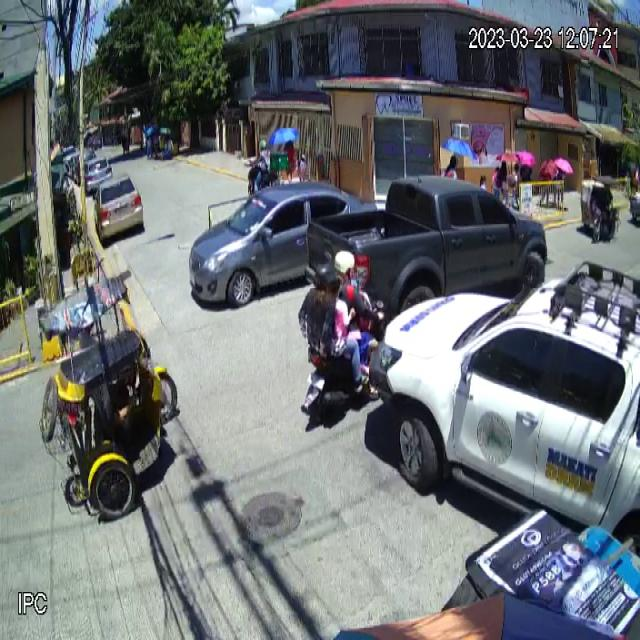Car: (368, 257, 640, 534), (302, 176, 549, 315), (188, 179, 379, 309), (94, 172, 144, 244)
Tricycle: (39, 278, 179, 522)
